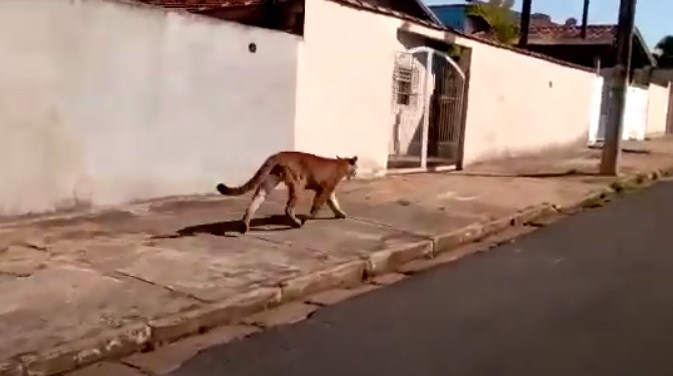OncaParda: (213, 150, 363, 237)
